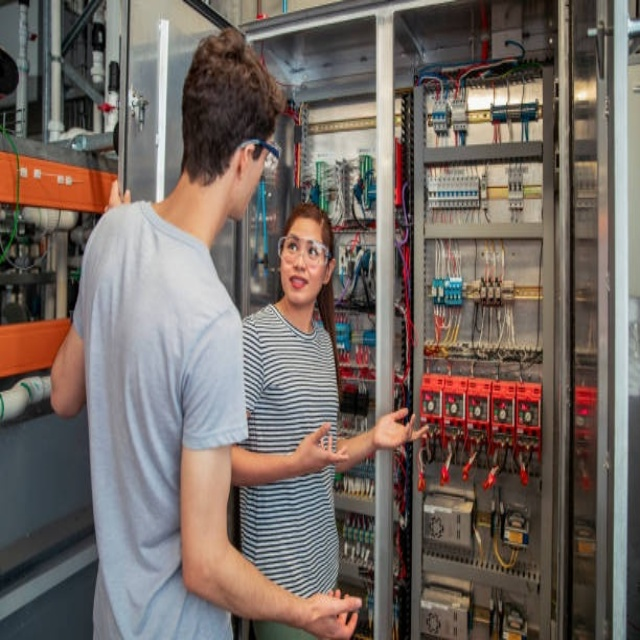Gafas: (279, 236, 331, 267), (237, 138, 280, 166)
Sin_guantes: (300, 588, 363, 640), (298, 417, 353, 473), (373, 404, 430, 452)
Sin_mascara: (285, 270, 314, 300)
